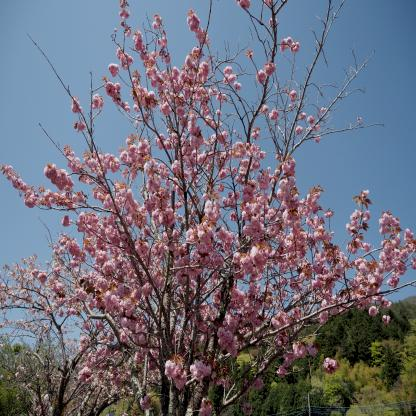YaeSakura: (2, 3, 415, 416), (0, 260, 111, 414)
